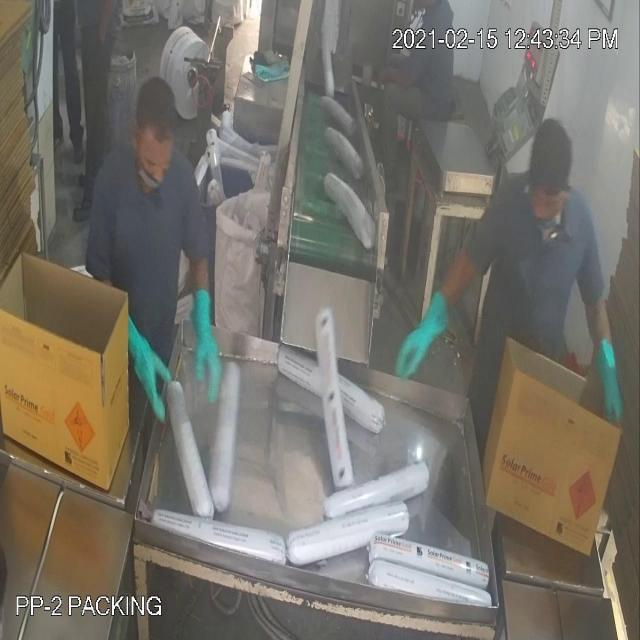Gloves: (50, 40, 606, 392)
